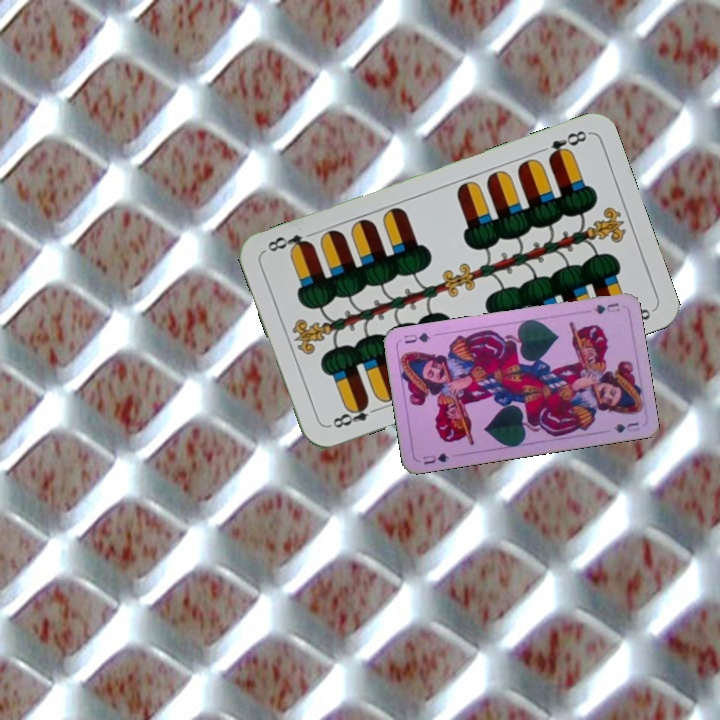E8: (324, 397, 382, 431), (544, 126, 591, 163)
GU: (589, 299, 623, 317), (419, 449, 452, 467)
